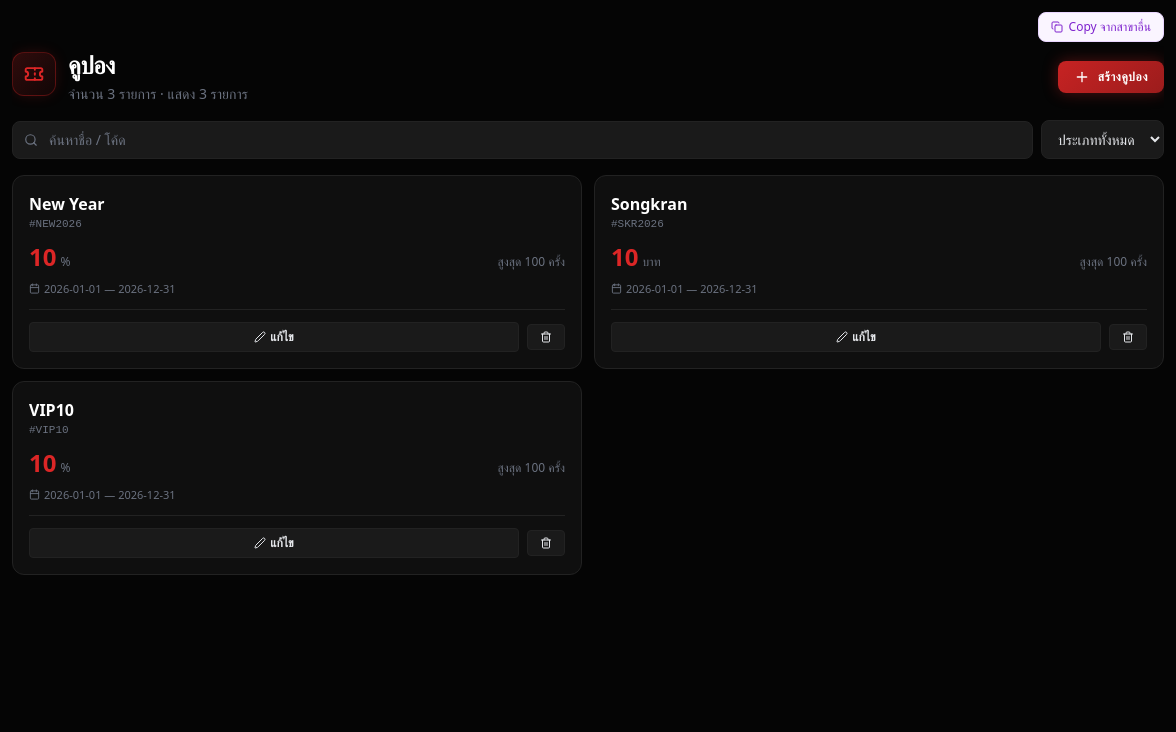
CouponTab — search + filter › CF1 search by name
The width and height of the screenshot is (1176, 732).
Type "Songkran" into the field with placeholder "ค้นหาชื่อ / โค้ด" at (522, 140), box [12,120,1033,158]
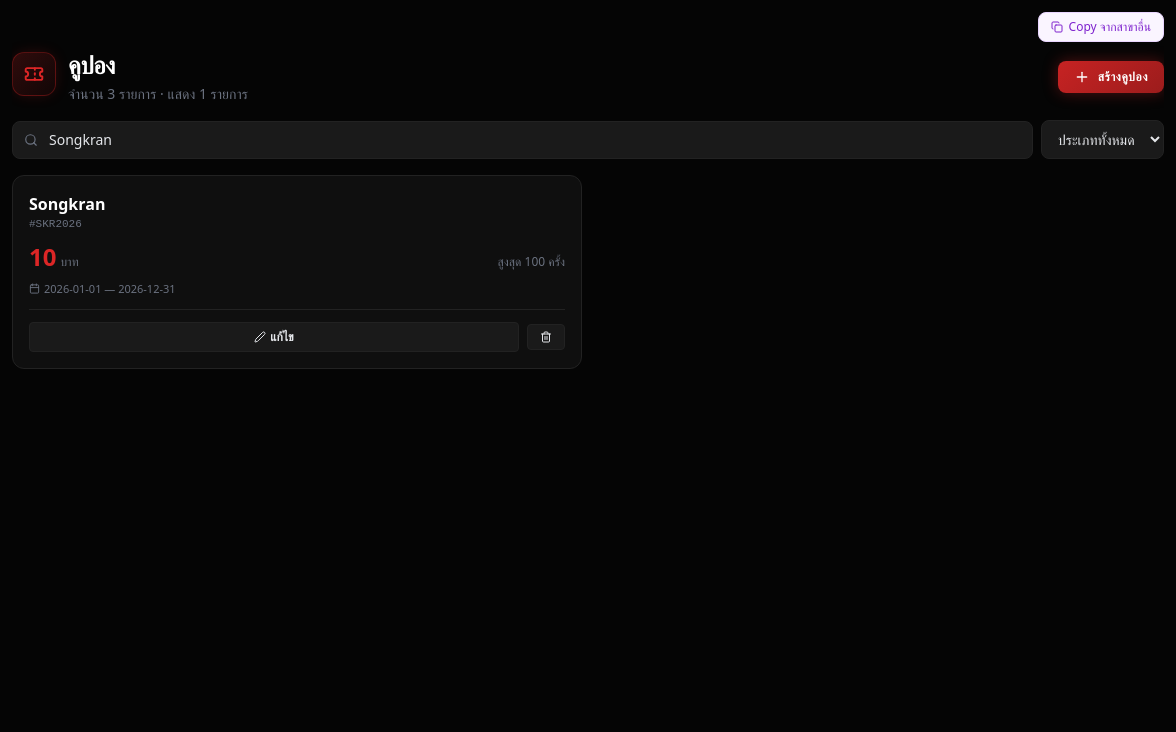
Expected: the heading "Songkran" is shown, [29,193,105,215]
Now the heading "New Year" is gone
